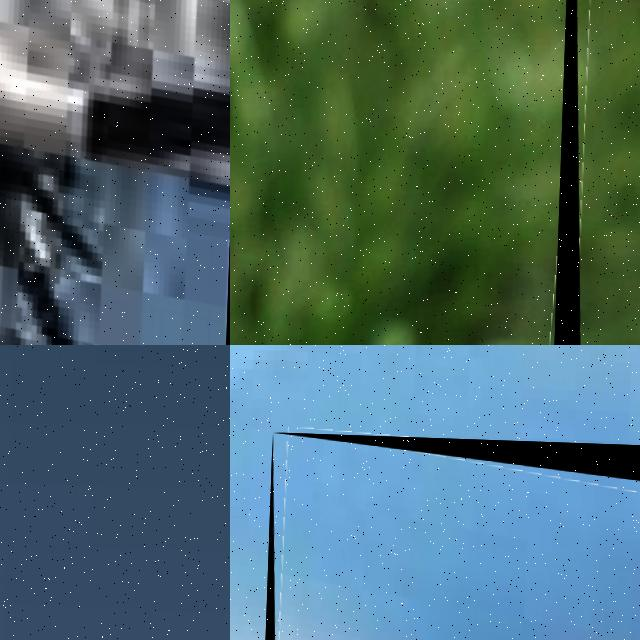0: (0, 0, 230, 345)
drone: (259, 432, 640, 640), (552, 0, 640, 345)
